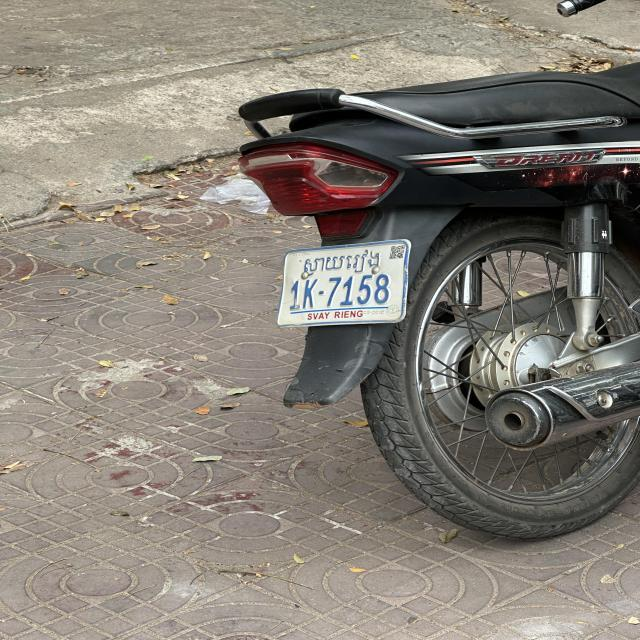Svay_Rieng: (302, 248, 384, 277)
